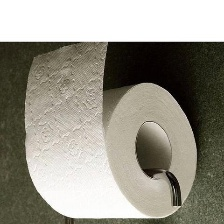tissue: (16, 41, 204, 224)
